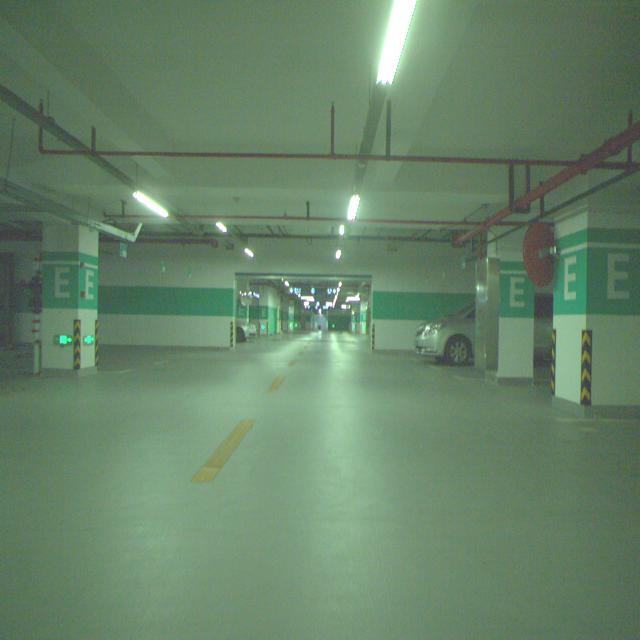pillar: (551, 188, 640, 416), (41, 222, 99, 375)
